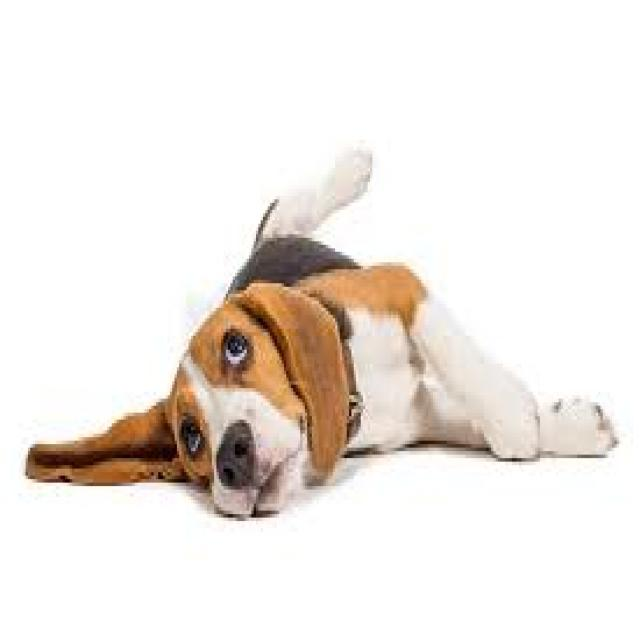Dog: (21, 138, 628, 523)
